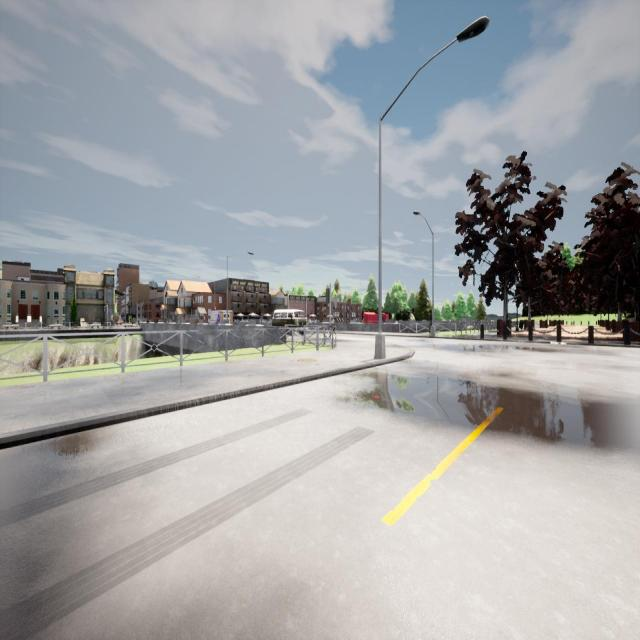Vehicle: (272, 310, 308, 328), (208, 310, 234, 324)
traffic_light: (326, 288, 330, 304), (104, 306, 107, 313)
